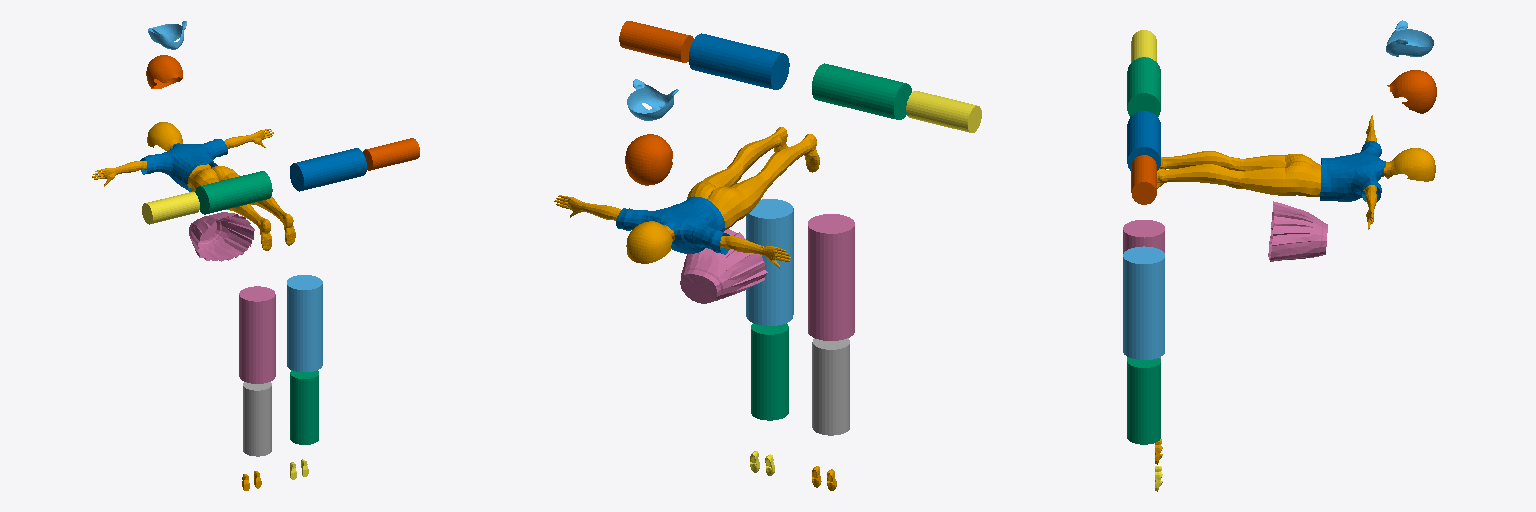
The robot description file, URDF, robot "ichika_mesh_based":
<?xml version="1.0" encoding="utf-8"?>
<!-- Ichika VRM Character URDF with Actual VRM Mesh Geometry -->
<robot name="ichika_mesh_based">
    
    <!-- Base/Torso Link with VRM Body Mesh -->
    <link name="base">
        <visual>
            <origin rpy="0 0 0" xyz="0 0 0"/>
            <geometry>
                <mesh filename="ichika_body_primitives_FIXED/body_main_body_skin_p0_FIXED.obj" scale="1.0 1.0 1.0"/>
            </geometry>
        </visual>
        <collision>
            <origin rpy="0 0 0" xyz="0 0 0"/>
            <geometry>
                <box size="0.4 0.24 0.8"/>
            </geometry>
        </collision>
        <inertial>
            <origin rpy="0 0 0" xyz="0 0 0"/>
            <mass value="10.0"/>
            <inertia ixx="0.5" ixy="0" ixz="0" iyy="0.5" iyz="0" izz="0.3"/>
        </inertial>
    </link>

    <!-- Head Link with VRM Face Mesh -->
    <link name="head">
        <visual>
            <origin rpy="0 0 0" xyz="0 0 0"/>
            <geometry>
                <mesh filename="ichika_face_primitives_correct/face_main_face_p3.obj" scale="1.0 1.0 1.0"/>
            </geometry>
        </visual>
        <collision>
            <origin rpy="0 0 0" xyz="0 0 0"/>
            <geometry>
                <sphere radius="0.3"/>
            </geometry>
        </collision>
        <inertial>
            <origin rpy="0 0 0" xyz="0 0 0"/>
            <mass value="2.0"/>
            <inertia ixx="0.05" ixy="0" ixz="0" iyy="0.05" iyz="0" izz="0.05"/>
        </inertial>
    </link>

    <!-- Neck Joint -->
    <joint name="neck_joint" type="revolute">
        <parent link="base"/>
        <child link="head"/>
        <origin rpy="0 0 0" xyz="0 0 0.7"/>
        <axis xyz="0 0 1"/>
        <limit effort="50" lower="-0.5" upper="0.5" velocity="2.0"/>
        <dynamics damping="1.0" friction="0.1"/>
    </joint>

    <!-- Left Upper Arm with VRM Mesh -->
    <link name="left_upper_arm">
        <visual>
            <origin rpy="0 1.57 0" xyz="0 0 0"/>
            <geometry>
                <cylinder radius="0.08" length="0.4"/>
            </geometry>
        </visual>
        <collision>
            <origin rpy="0 1.57 0" xyz="0 0 0"/>
            <geometry>
                <cylinder radius="0.08" length="0.4"/>
            </geometry>
        </collision>
        <inertial>
            <origin rpy="0 0 0" xyz="0 0 0"/>
            <mass value="1.5"/>
            <inertia ixx="0.02" ixy="0" ixz="0" iyy="0.02" iyz="0" izz="0.005"/>
        </inertial>
    </link>

    <!-- Left Shoulder Joint -->
    <joint name="left_shoulder_joint" type="revolute">
        <parent link="base"/>
        <child link="left_upper_arm"/>
        <origin rpy="0 0 0" xyz="-0.3 0 0.3"/>
        <axis xyz="0 1 0"/>
        <limit effort="80" lower="-1.5" upper="1.5" velocity="3.0"/>
        <dynamics damping="2.0" friction="0.2"/>
    </joint>

    <!-- Left Forearm -->
    <link name="left_forearm">
        <visual>
            <origin rpy="0 1.57 0" xyz="0 0 0"/>
            <geometry>
                <cylinder radius="0.06" length="0.3"/>
            </geometry>
        </visual>
        <collision>
            <origin rpy="0 1.57 0" xyz="0 0 0"/>
            <geometry>
                <cylinder radius="0.06" length="0.3"/>
            </geometry>
        </collision>
        <inertial>
            <origin rpy="0 0 0" xyz="0 0 0"/>
            <mass value="1.0"/>
            <inertia ixx="0.01" ixy="0" ixz="0" iyy="0.01" iyz="0" izz="0.003"/>
        </inertial>
    </link>

    <!-- Left Elbow Joint -->
    <joint name="left_elbow_joint" type="revolute">
        <parent link="left_upper_arm"/>
        <child link="left_forearm"/>
        <origin rpy="0 0 0" xyz="-0.4 0 0"/>
        <axis xyz="0 1 0"/>
        <limit effort="60" lower="-2.5" upper="0.1" velocity="3.0"/>
        <dynamics damping="1.5" friction="0.15"/>
    </joint>

    <!-- Right Upper Arm -->
    <link name="right_upper_arm">
        <visual>
            <origin rpy="0 1.57 0" xyz="0 0 0"/>
            <geometry>
                <cylinder radius="0.08" length="0.4"/>
            </geometry>
        </visual>
        <collision>
            <origin rpy="0 1.57 0" xyz="0 0 0"/>
            <geometry>
                <cylinder radius="0.08" length="0.4"/>
            </geometry>
        </collision>
        <inertial>
            <origin rpy="0 0 0" xyz="0 0 0"/>
            <mass value="1.5"/>
            <inertia ixx="0.02" ixy="0" ixz="0" iyy="0.02" iyz="0" izz="0.005"/>
        </inertial>
    </link>

    <!-- Right Shoulder Joint -->
    <joint name="right_shoulder_joint" type="revolute">
        <parent link="base"/>
        <child link="right_upper_arm"/>
        <origin rpy="0 0 0" xyz="0.3 0 0.3"/>
        <axis xyz="0 1 0"/>
        <limit effort="80" lower="-1.5" upper="1.5" velocity="3.0"/>
        <dynamics damping="2.0" friction="0.2"/>
    </joint>

    <!-- Right Forearm -->
    <link name="right_forearm">
        <visual>
            <origin rpy="0 1.57 0" xyz="0 0 0"/>
            <geometry>
                <cylinder radius="0.06" length="0.3"/>
            </geometry>
        </visual>
        <collision>
            <origin rpy="0 1.57 0" xyz="0 0 0"/>
            <geometry>
                <cylinder radius="0.06" length="0.3"/>
            </geometry>
        </collision>
        <inertial>
            <origin rpy="0 0 0" xyz="0 0 0"/>
            <mass value="1.0"/>
            <inertia ixx="0.01" ixy="0" ixz="0" iyy="0.01" iyz="0" izz="0.003"/>
        </inertial>
    </link>

    <!-- Right Elbow Joint -->
    <joint name="right_elbow_joint" type="revolute">
        <parent link="right_upper_arm"/>
        <child link="right_forearm"/>
        <origin rpy="0 0 0" xyz="0.4 0 0"/>
        <axis xyz="0 1 0"/>
        <limit effort="60" lower="-2.5" upper="0.1" velocity="3.0"/>
        <dynamics damping="1.5" friction="0.15"/>
    </joint>

    <!-- Left Thigh -->
    <link name="left_thigh">
        <visual>
            <origin rpy="0 0 0" xyz="0 0 0"/>
            <geometry>
                <cylinder radius="0.1" length="0.5"/>
            </geometry>
        </visual>
        <collision>
            <origin rpy="0 0 0" xyz="0 0 0"/>
            <geometry>
                <cylinder radius="0.1" length="0.5"/>
            </geometry>
        </collision>
        <inertial>
            <origin rpy="0 0 0" xyz="0 0 0"/>
            <mass value="3.0"/>
            <inertia ixx="0.05" ixy="0" ixz="0" iyy="0.05" iyz="0" izz="0.01"/>
        </inertial>
    </link>

    <!-- Left Hip Joint -->
    <joint name="left_hip_joint" type="revolute">
        <parent link="base"/>
        <child link="left_thigh"/>
        <origin rpy="0 0 0" xyz="-0.15 0 -0.6"/>
        <axis xyz="0 1 0"/>
        <limit effort="150" lower="-1.0" upper="1.0" velocity="4.0"/>
        <dynamics damping="3.0" friction="0.3"/>
    </joint>

    <!-- Left Shin -->
    <link name="left_shin">
        <visual>
            <origin rpy="0 0 0" xyz="0 0 0"/>
            <geometry>
                <cylinder radius="0.08" length="0.4"/>
            </geometry>
        </visual>
        <collision>
            <origin rpy="0 0 0" xyz="0 0 0"/>
            <geometry>
                <cylinder radius="0.08" length="0.4"/>
            </geometry>
        </collision>
        <inertial>
            <origin rpy="0 0 0" xyz="0 0 0"/>
            <mass value="2.0"/>
            <inertia ixx="0.03" ixy="0" ixz="0" iyy="0.03" iyz="0" izz="0.005"/>
        </inertial>
    </link>

    <!-- Left Knee Joint -->
    <joint name="left_knee_joint" type="revolute">
        <parent link="left_thigh"/>
        <child link="left_shin"/>
        <origin rpy="0 0 0" xyz="0 0 -0.5"/>
        <axis xyz="0 1 0"/>
        <limit effort="120" lower="-2.5" upper="0.1" velocity="4.0"/>
        <dynamics damping="2.5" friction="0.25"/>
    </joint>

    <!-- Left Foot with VRM Shoe Mesh -->
    <link name="left_foot">
        <visual>
            <origin rpy="0 0 0" xyz="0 0 0"/>
            <geometry>
                <mesh filename="ichika_body_primitives_FIXED/body_shoes_p4_FIXED.obj" scale="0.5 0.5 0.5"/>
            </geometry>
        </visual>
        <collision>
            <origin rpy="0 0 0" xyz="0 0 0"/>
            <geometry>
                <box size="0.15 0.25 0.08"/>
            </geometry>
        </collision>
        <inertial>
            <origin rpy="0 0 0" xyz="0 0 0"/>
            <mass value="1.0"/>
            <inertia ixx="0.01" ixy="0" ixz="0" iyy="0.01" iyz="0" izz="0.01"/>
        </inertial>
    </link>

    <!-- Left Ankle Joint -->
    <joint name="left_ankle_joint" type="revolute">
        <parent link="left_shin"/>
        <child link="left_foot"/>
        <origin rpy="0 0 0" xyz="0 0.05 -0.4"/>
        <axis xyz="0 1 0"/>
        <limit effort="80" lower="-0.5" upper="0.5" velocity="3.0"/>
        <dynamics damping="1.0" friction="0.2"/>
    </joint>

    <!-- Right Thigh -->
    <link name="right_thigh">
        <visual>
            <origin rpy="0 0 0" xyz="0 0 0"/>
            <geometry>
                <cylinder radius="0.1" length="0.5"/>
            </geometry>
        </visual>
        <collision>
            <origin rpy="0 0 0" xyz="0 0 0"/>
            <geometry>
                <cylinder radius="0.1" length="0.5"/>
            </geometry>
        </collision>
        <inertial>
            <origin rpy="0 0 0" xyz="0 0 0"/>
            <mass value="3.0"/>
            <inertia ixx="0.05" ixy="0" ixz="0" iyy="0.05" iyz="0" izz="0.01"/>
        </inertial>
    </link>

    <!-- Right Hip Joint -->
    <joint name="right_hip_joint" type="revolute">
        <parent link="base"/>
        <child link="right_thigh"/>
        <origin rpy="0 0 0" xyz="0.15 0 -0.6"/>
        <axis xyz="0 1 0"/>
        <limit effort="150" lower="-1.0" upper="1.0" velocity="4.0"/>
        <dynamics damping="3.0" friction="0.3"/>
    </joint>

    <!-- Right Shin -->
    <link name="right_shin">
        <visual>
            <origin rpy="0 0 0" xyz="0 0 0"/>
            <geometry>
                <cylinder radius="0.08" length="0.4"/>
            </geometry>
        </visual>
        <collision>
            <origin rpy="0 0 0" xyz="0 0 0"/>
            <geometry>
                <cylinder radius="0.08" length="0.4"/>
            </geometry>
        </collision>
        <inertial>
            <origin rpy="0 0 0" xyz="0 0 0"/>
            <mass value="2.0"/>
            <inertia ixx="0.03" ixy="0" ixz="0" iyy="0.03" iyz="0" izz="0.005"/>
        </inertial>
    </link>

    <!-- Right Knee Joint -->
    <joint name="right_knee_joint" type="revolute">
        <parent link="right_thigh"/>
        <child link="right_shin"/>
        <origin rpy="0 0 0" xyz="0 0 -0.5"/>
        <axis xyz="0 1 0"/>
        <limit effort="120" lower="-2.5" upper="0.1" velocity="4.0"/>
        <dynamics damping="2.5" friction="0.25"/>
    </joint>

    <!-- Right Foot with VRM Shoe Mesh -->
    <link name="right_foot">
        <visual>
            <origin rpy="0 0 0" xyz="0 0 0"/>
            <geometry>
                <mesh filename="ichika_body_primitives_FIXED/body_shoes_p4_FIXED.obj" scale="0.5 0.5 0.5"/>
            </geometry>
        </visual>
        <collision>
            <origin rpy="0 0 0" xyz="0 0 0"/>
            <geometry>
                <box size="0.15 0.25 0.08"/>
            </geometry>
        </collision>
        <inertial>
            <origin rpy="0 0 0" xyz="0 0 0"/>
            <mass value="1.0"/>
            <inertia ixx="0.01" ixy="0" ixz="0" iyy="0.01" iyz="0" izz="0.01"/>
        </inertial>
    </link>

    <!-- Right Ankle Joint -->
    <joint name="right_ankle_joint" type="revolute">
        <parent link="right_shin"/>
        <child link="right_foot"/>
        <origin rpy="0 0 0" xyz="0 0.05 -0.4"/>
        <axis xyz="0 1 0"/>
        <limit effort="80" lower="-0.5" upper="0.5" velocity="3.0"/>
        <dynamics damping="1.0" friction="0.2"/>
    </joint>

    <!-- Additional VRM Clothing Components as Visual-Only Links -->
    
    <!-- White Blouse -->
    <link name="blouse">
        <visual>
            <origin rpy="0 0 0" xyz="0 0 0"/>
            <geometry>
                <mesh filename="ichika_body_primitives_FIXED/body_white_blouse_p1_FIXED.obj" scale="1.0 1.0 1.0"/>
            </geometry>
        </visual>
        <inertial>
            <origin rpy="0 0 0" xyz="0 0 0"/>
            <mass value="0.1"/>
            <inertia ixx="0.001" ixy="0" ixz="0" iyy="0.001" iyz="0" izz="0.001"/>
        </inertial>
    </link>

    <!-- Blouse Joint (fixed to torso) -->
    <joint name="blouse_joint" type="fixed">
        <parent link="base"/>
        <child link="blouse"/>
        <origin rpy="0 0 0" xyz="0 0 0"/>
    </joint>

    <!-- Sailor Collar -->
    <link name="collar">
        <visual>
            <origin rpy="0 0 0" xyz="0 0 0"/>
            <geometry>
                <mesh filename="ichika_body_primitives_FIXED/body_hair_back_part_p2_FIXED.obj" scale="1.0 1.0 1.0"/>
            </geometry>
        </visual>
        <inertial>
            <origin rpy="0 0 0" xyz="0 0 0"/>
            <mass value="0.05"/>
            <inertia ixx="0.001" ixy="0" ixz="0" iyy="0.001" iyz="0" izz="0.001"/>
        </inertial>
    </link>

    <!-- Collar Joint (fixed to torso) -->
    <joint name="collar_joint" type="fixed">
        <parent link="base"/>
        <child link="collar"/>
        <origin rpy="0 0 0" xyz="0 0 0.4"/>
    </joint>

    <!-- Blue Skirt -->
    <link name="skirt">
        <visual>
            <origin rpy="0 0 0" xyz="0 0 0"/>
            <geometry>
                <mesh filename="ichika_body_primitives_FIXED/body_blue_skirt_p3_FIXED.obj" scale="1.0 1.0 1.0"/>
            </geometry>
        </visual>
        <inertial>
            <origin rpy="0 0 0" xyz="0 0 0"/>
            <mass value="0.2"/>
            <inertia ixx="0.001" ixy="0" ixz="0" iyy="0.001" iyz="0" izz="0.001"/>
        </inertial>
    </link>

    <!-- Skirt Joint (fixed to torso) -->
    <joint name="skirt_joint" type="fixed">
        <parent link="base"/>
        <child link="skirt"/>
        <origin rpy="0 0 0" xyz="0 0 -0.3"/>
    </joint>

</robot>

--- Render facts (derived) ---
The picture shows the robot from 3 angles, left to right: view 1: azimuth 30°, elevation 25°; view 2: azimuth 150°, elevation 25°; view 3: azimuth 270°, elevation 25°; orthographic projection.
Model ichika_mesh_based with 15 links and 14 joints (11 revolute, 3 fixed), rooted at base, posed every joint at zero.
Visible links, largest first — view 1: base, left_thigh, right_thigh, skirt, right_upper_arm, left_upper_arm, right_shin, left_shin, blouse, left_forearm, right_forearm, collar (+1 smaller); view 2: base, left_thigh, right_thigh, right_upper_arm, left_upper_arm, skirt, left_shin, right_shin, blouse, left_forearm, right_forearm, collar (+1 smaller); view 3: base, right_thigh, right_shin, blouse, skirt, left_upper_arm, right_upper_arm, collar, head, right_forearm, left_thigh, left_forearm.
Link boxes in pixels (x1,y1,x2,y2): base: [92, 122, 295, 250]; left_thigh: [239, 286, 275, 383]; right_thigh: [287, 275, 322, 371]; skirt: [189, 212, 254, 261]; right_upper_arm: [290, 148, 366, 191]; left_upper_arm: [195, 171, 272, 214]; right_shin: [290, 370, 318, 444]; left_shin: [243, 382, 271, 456]; blouse: [140, 139, 227, 191]; left_forearm: [142, 192, 199, 224]; right_forearm: [363, 138, 419, 170]; collar: [146, 55, 182, 88]; base: [554, 127, 819, 268]; left_thigh: [808, 214, 854, 340]; right_thigh: [746, 199, 793, 325]; right_upper_arm: [689, 33, 789, 89]; left_upper_arm: [812, 63, 911, 119]; skirt: [680, 229, 767, 303]; left_shin: [812, 338, 849, 435]; right_shin: [751, 323, 788, 420]; blouse: [616, 196, 729, 254]; left_forearm: [906, 91, 981, 132]; right_forearm: [619, 21, 693, 62]; collar: [625, 134, 672, 185]; base: [1150, 115, 1435, 229]; right_thigh: [1123, 246, 1164, 359]; right_shin: [1127, 358, 1160, 444]; blouse: [1320, 141, 1385, 201]; skirt: [1268, 201, 1327, 261]; left_upper_arm: [1127, 57, 1160, 116]; right_upper_arm: [1127, 111, 1160, 170]; collar: [1387, 70, 1436, 113]; head: [1386, 20, 1433, 56]; right_forearm: [1131, 155, 1156, 204]; left_thigh: [1123, 220, 1164, 253]; left_forearm: [1131, 30, 1156, 62].
Bounding box of the posed robot: 1.7 × 1.48 × 2.32 m (x, y, z).
7 mesh visuals loaded from 6 distinct referenced files (6 OBJ).
